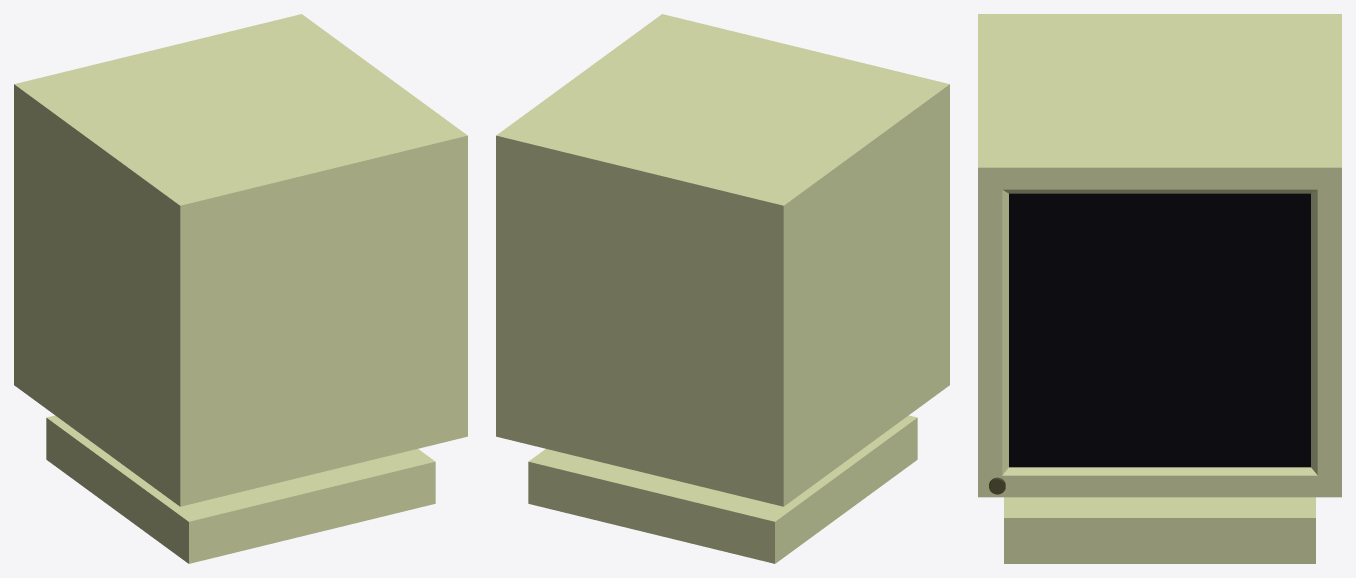
File: monitor.fbx
3 views of the same model, side by side, from view 1: azimuth 30°, elevation 25°; view 2: azimuth 150°, elevation 25°; view 3: azimuth 270°, elevation 25° (orthographic). The views are drawn at different scales.
Parts seen in each view (by area): view 1: Cube, Cube.001; view 2: Cube, Cube.001; view 3: Cube, Cube.001.
Part boxes in pixels (x1,y1,x2,y2): Cube: [14, 14, 467, 506]; Cube.001: [46, 415, 435, 563]; Cube: [496, 14, 949, 506]; Cube.001: [528, 415, 917, 563]; Cube: [978, 14, 1341, 497]; Cube.001: [1004, 497, 1315, 563].
Bounding box in the file's own units: 60.8 × 74.11 × 60.
